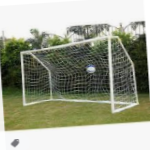goals: (19, 35, 140, 113)
